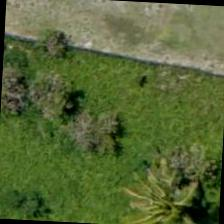Kelapa_Sawit: (126, 156, 220, 223)
